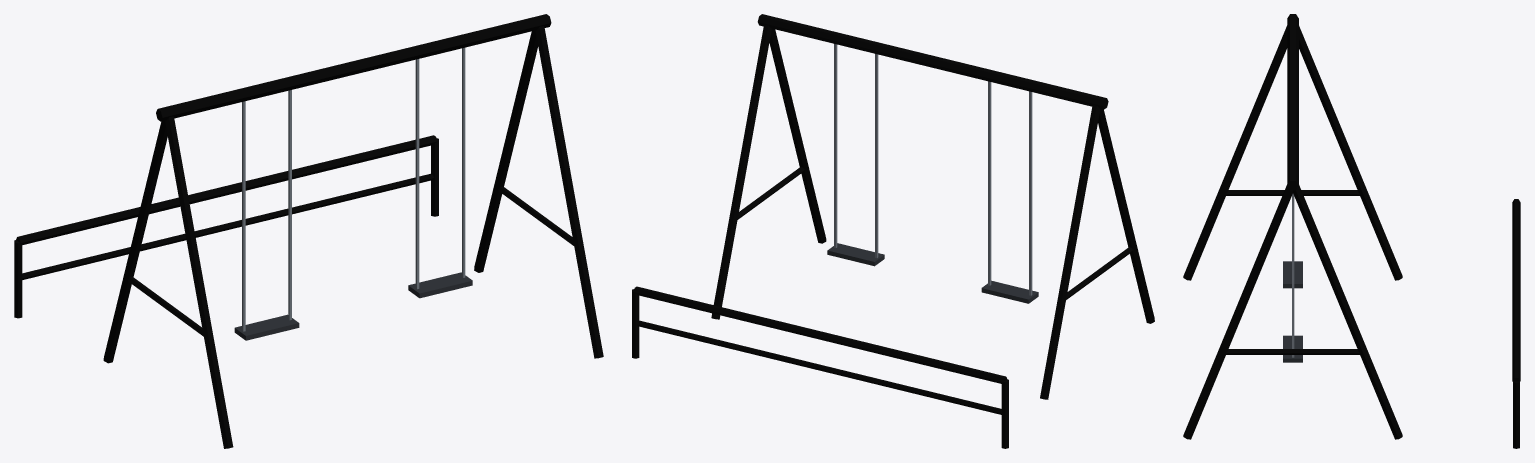
The model's file is Swing.fbx.
3 views of the same model, side by side, from view 1: azimuth 30°, elevation 25°; view 2: azimuth 150°, elevation 25°; view 3: azimuth 270°, elevation 25° (orthographic). The views are drawn at different scales.
Visible parts, largest first — view 1: Frame.005, Fence, Chains, Seats; view 2: Frame.005, Fence, Chains, Seats; view 3: Frame.005, Fence, Seats, Chains.
Boxes of the visible parts, x1,y1,x2,y2 form: Frame.005: (103,14,603,448); Fence: (14,135,438,318); Chains: (242,47,465,331); Seats: (234,272,472,340); Frame.005: (711,14,1154,399); Fence: (632,286,1008,448); Chains: (834,44,1032,295); Seats: (827,243,1038,303); Frame.005: (1183,14,1402,439); Fence: (1512,199,1520,448); Seats: (1283,261,1302,362); Chains: (1292,193,1294,357).
Bounding box in the file's own units: 3.67 × 2.46 × 2.87.
